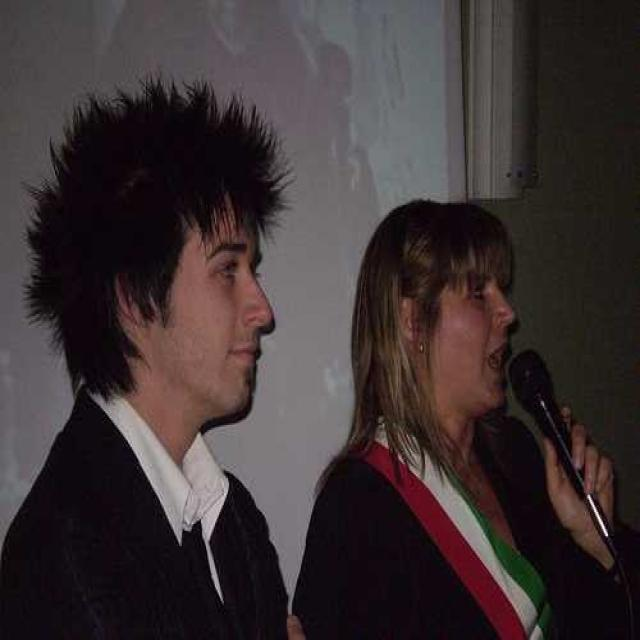microphone: (508, 348, 598, 498)
